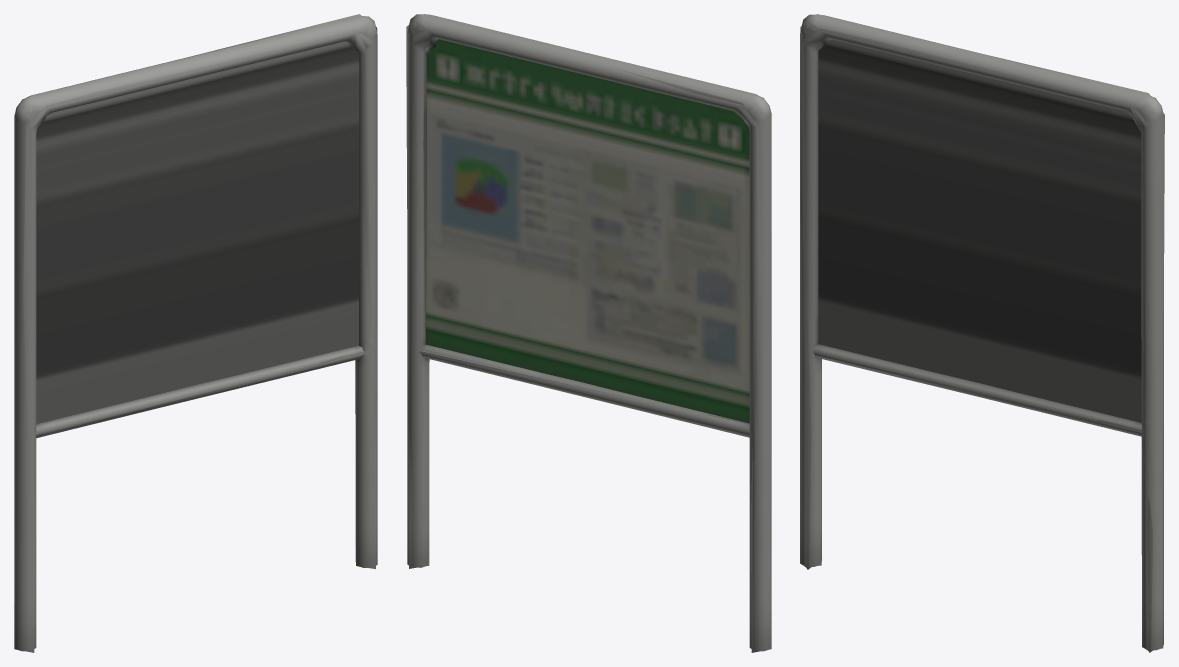
The model's file is objects_un_tipsboard01.gltf.
3 renders of one model, left to right at view 1: azimuth 30°, elevation 25°; view 2: azimuth 150°, elevation 25°; view 3: azimuth 330°, elevation 25°, orthographic.
Visible parts, largest first — view 1: um_objects_un_tipsboard01_model_lod0Shape:objects_un_tipsboa, um_objects_un_tipsboard01_model_lod1Shape:objects_un_tipsboa, um_objects_un_tipsboard01_model_lod2Shape:objects_un_tipsboa; view 2: um_objects_un_tipsboard01_model_lod0Shape:objects_un_tipsboa, um_objects_un_tipsboard01_model_lod1Shape:objects_un_tipsboa, um_objects_un_tipsboard01_model_lod2Shape:objects_un_tipsboa; view 3: um_objects_un_tipsboard01_model_lod0Shape:objects_un_tipsboa, um_objects_un_tipsboard01_model_lod1Shape:objects_un_tipsboa, um_objects_un_tipsboard01_model_lod2Shape:objects_un_tipsboa.
Boxes of the visible parts, bbox=[...] form: um_objects_un_tipsboard01_model_lod0Shape:objects_un_tipsboa: bbox=[14, 16, 377, 651]; um_objects_un_tipsboard01_model_lod1Shape:objects_un_tipsboa: bbox=[14, 15, 377, 651]; um_objects_un_tipsboard01_model_lod2Shape:objects_un_tipsboa: bbox=[14, 14, 376, 652]; um_objects_un_tipsboard01_model_lod0Shape:objects_un_tipsboa: bbox=[407, 14, 771, 651]; um_objects_un_tipsboard01_model_lod1Shape:objects_un_tipsboa: bbox=[411, 14, 771, 651]; um_objects_un_tipsboard01_model_lod2Shape:objects_un_tipsboa: bbox=[406, 14, 771, 652]; um_objects_un_tipsboard01_model_lod0Shape:objects_un_tipsboa: bbox=[800, 14, 1163, 650]; um_objects_un_tipsboard01_model_lod1Shape:objects_un_tipsboa: bbox=[800, 14, 1163, 650]; um_objects_un_tipsboard01_model_lod2Shape:objects_un_tipsboa: bbox=[800, 28, 1164, 652].
Size of the model in its own units: 1.29 by 1.88 by 0.0765.
2 materials, 1 textured.
